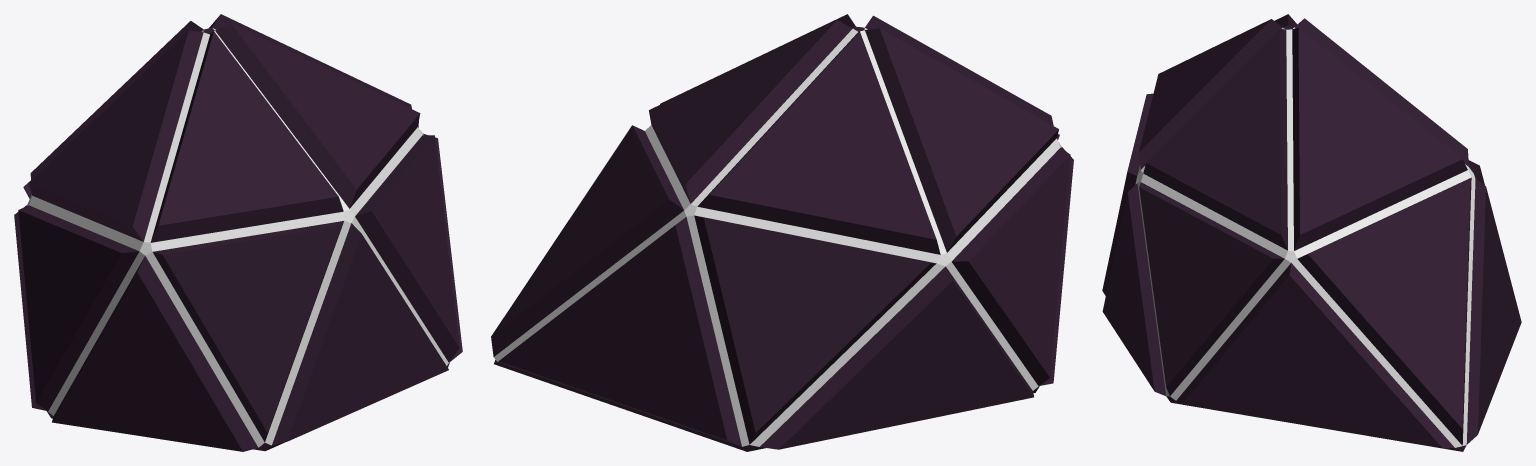
File: lava-stone.fbx
3 renders of one model, left to right at view 1: azimuth 30°, elevation 25°; view 2: azimuth 150°, elevation 25°; view 3: azimuth 270°, elevation 25°, orthographic. The views are drawn at different scales.
Visible parts, largest first — view 1: Icosphere; view 2: Icosphere; view 3: Icosphere.
Boxes of the visible parts, x1,y1,x2,y2 form: Icosphere: (14, 14, 462, 451); Icosphere: (491, 14, 1073, 451); Icosphere: (1102, 14, 1521, 451).
Size of the model in its own units: 210 by 148 by 181.
